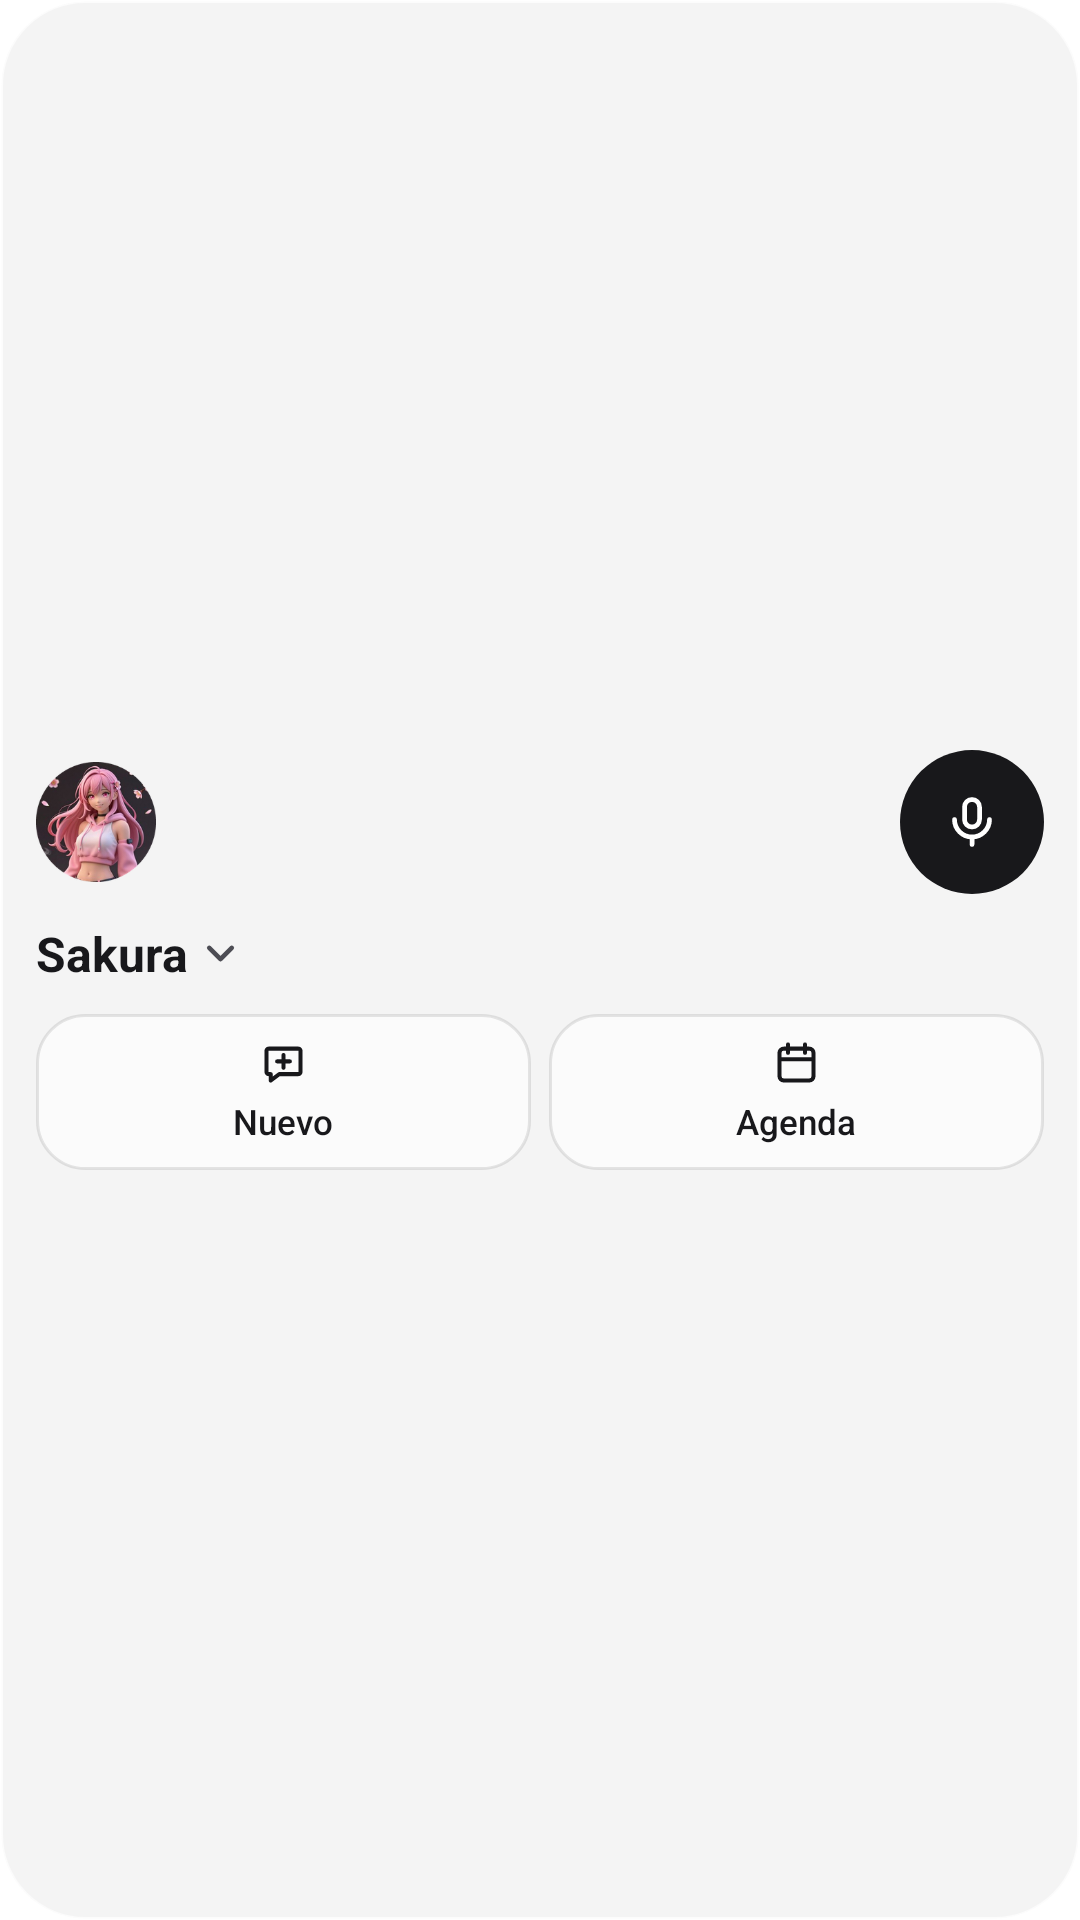

Point at icon controls on the screen. Image size 1080px×1920px, points as [x,y].
ui calendar: [796,1062]
ui chat plus: [283,1064]
